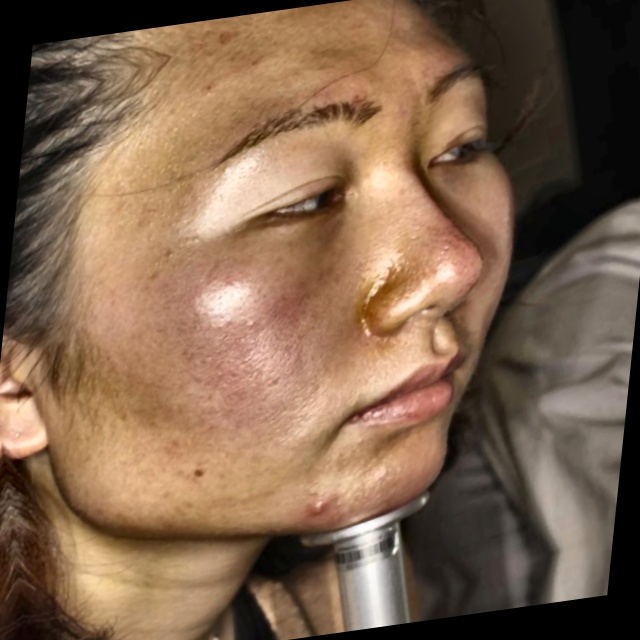comedone: (300, 482, 350, 531)
